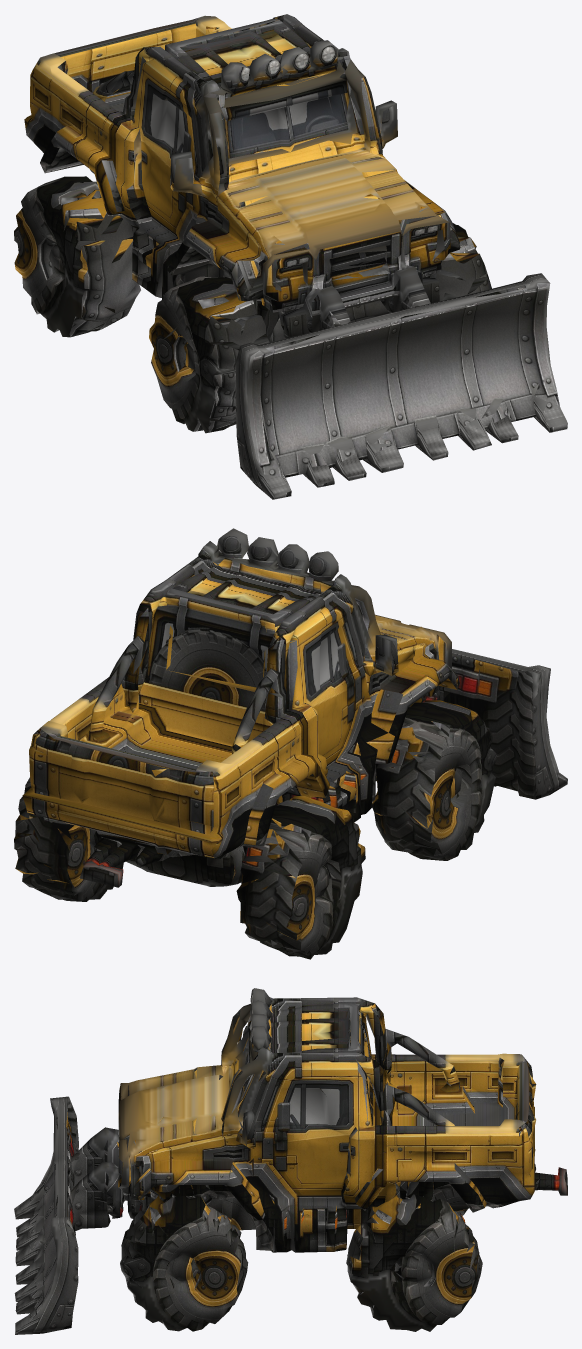
File: dozer.glb
3 renders of one model, top to bottom at view 1: azimuth 30°, elevation 25°; view 2: azimuth 150°, elevation 25°; view 3: azimuth 270°, elevation 25°, orthographic. The views are drawn at different scales.
Visible parts, largest first — view 1: world; view 2: world; view 3: world.
Boxes of the visible parts, x1,y1,x2,y2 form: world: (14, 14, 567, 499); world: (14, 528, 567, 959); world: (14, 988, 567, 1334).
Size of the model in its own units: 2.92 by 2.9 by 5.39.
Materials: 1 (1 with a texture image).
